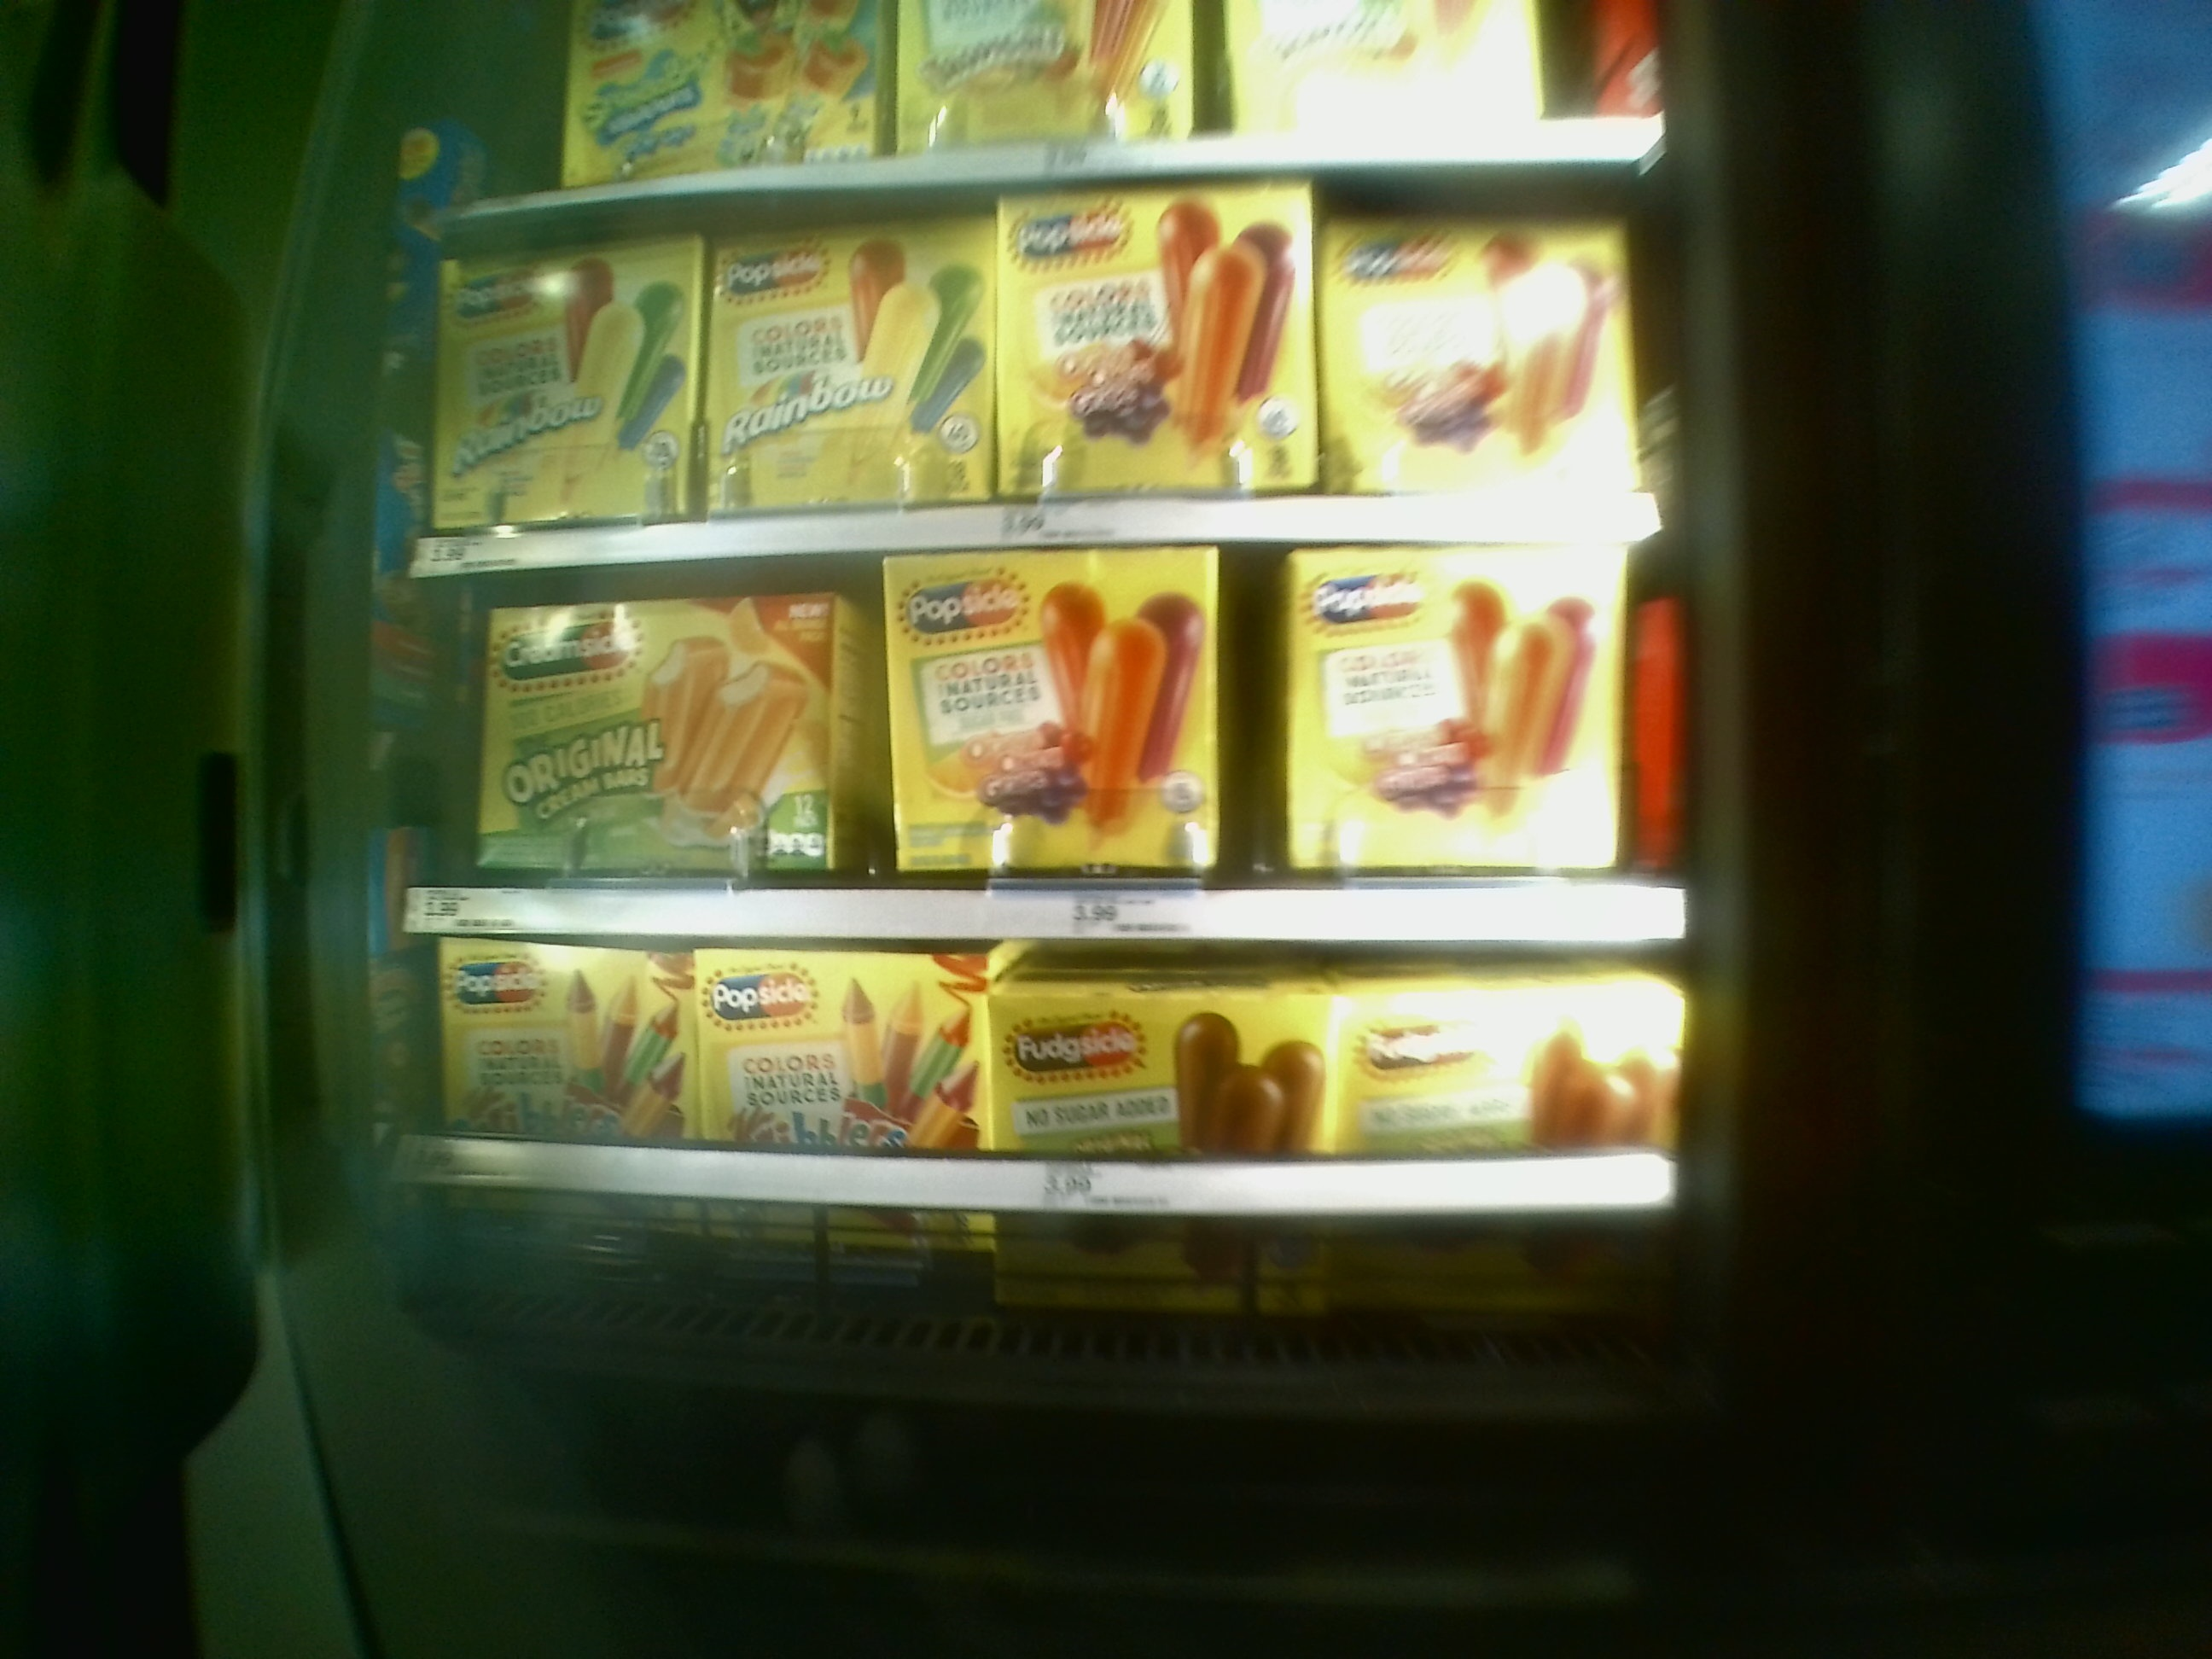frozen-food-shelf: (404, 584, 1688, 943), (404, 232, 1669, 565), (399, 945, 1677, 1209)
